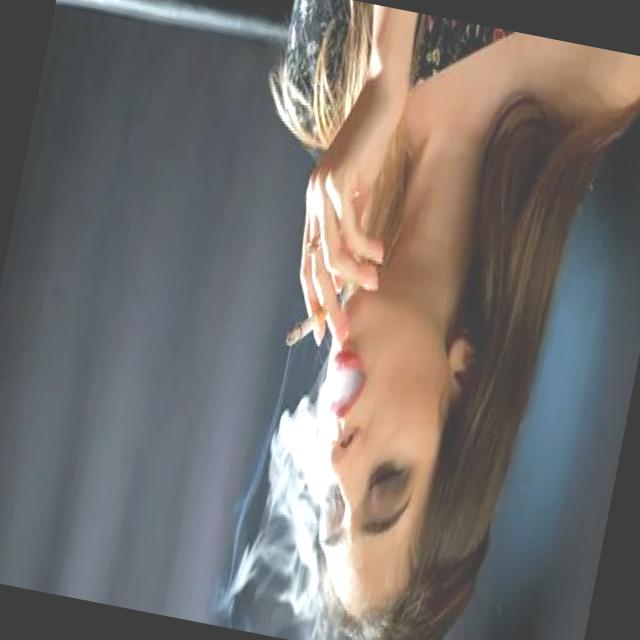cigarette: (281, 292, 332, 354)
